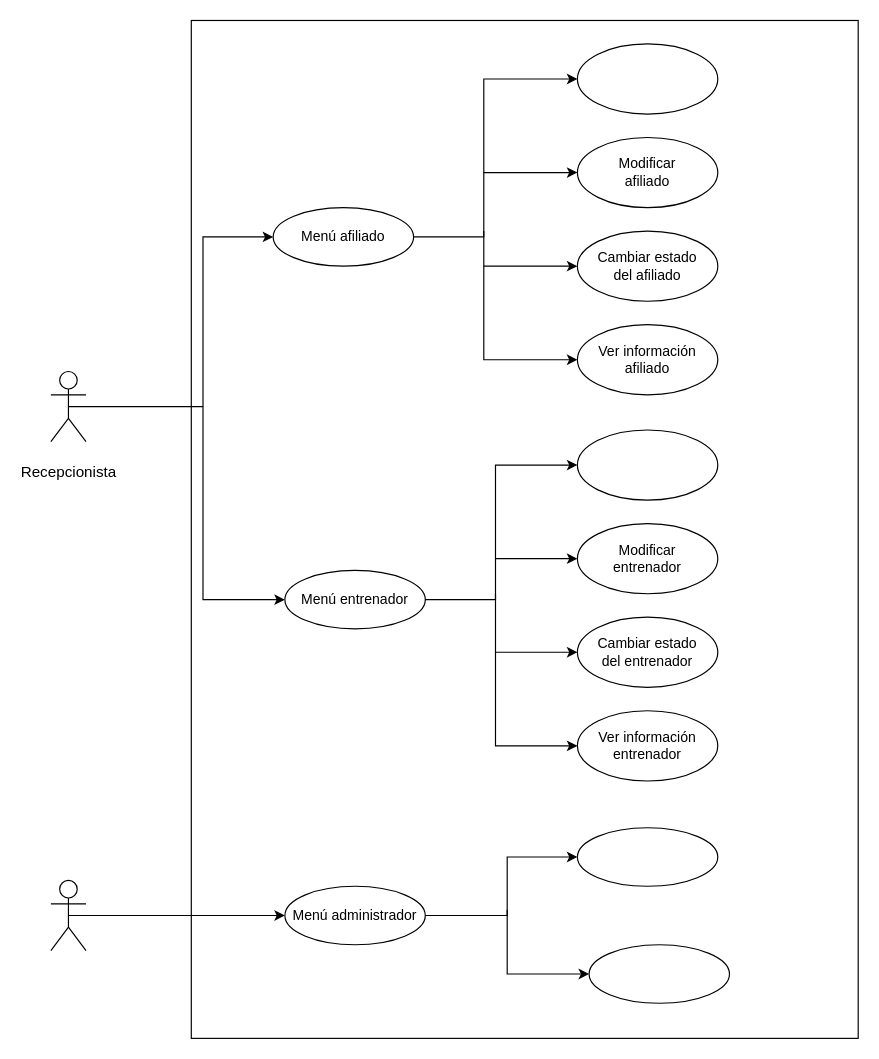
Image size: 879x1059. Some labels were removed from this diagram. The centre of each missing label's shape, as x and y in pixels:
"Administrador" goes at [68,915].
"Agregar afiliado" goes at [647,78].
"Agregar entrenador" goes at [647,464].
"Reporte entrenadores" goes at [647,856].
"Reportes afiliados" goes at [658,973].
